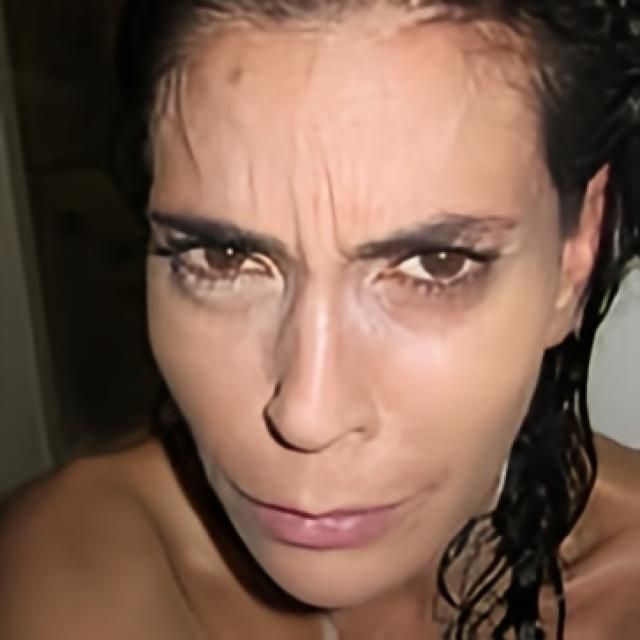anger: (139, 0, 557, 594)
